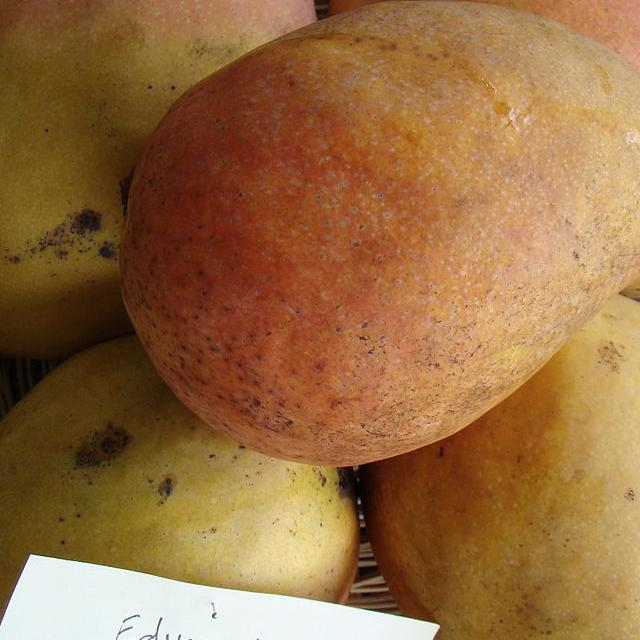mango: (110, 0, 640, 475), (0, 334, 356, 619), (371, 294, 640, 640)
